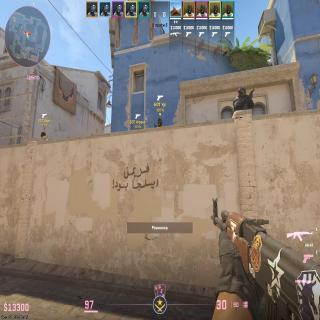CT-Body: (232, 86, 255, 114)
CT-Head: (238, 87, 246, 97)
T-Body: (40, 132, 49, 141)
T-Head: (157, 118, 163, 127), (41, 132, 46, 137)
